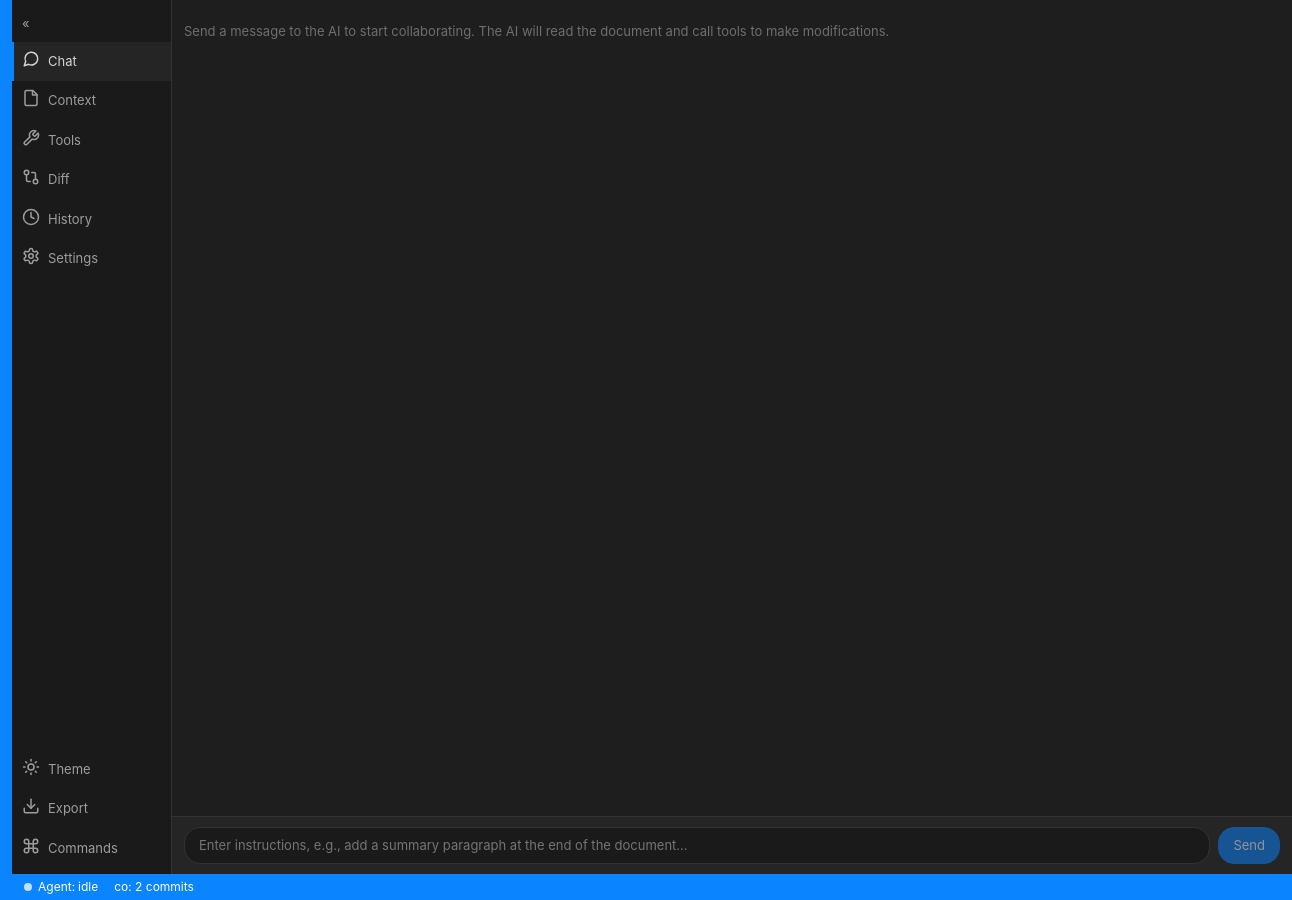
Test: Agent Deck › hides the confirm prompt once a pending change is accepted
Type "Modify the first paragraph" into the field named "Message Input" at (697, 845), box [184,826,1210,864]
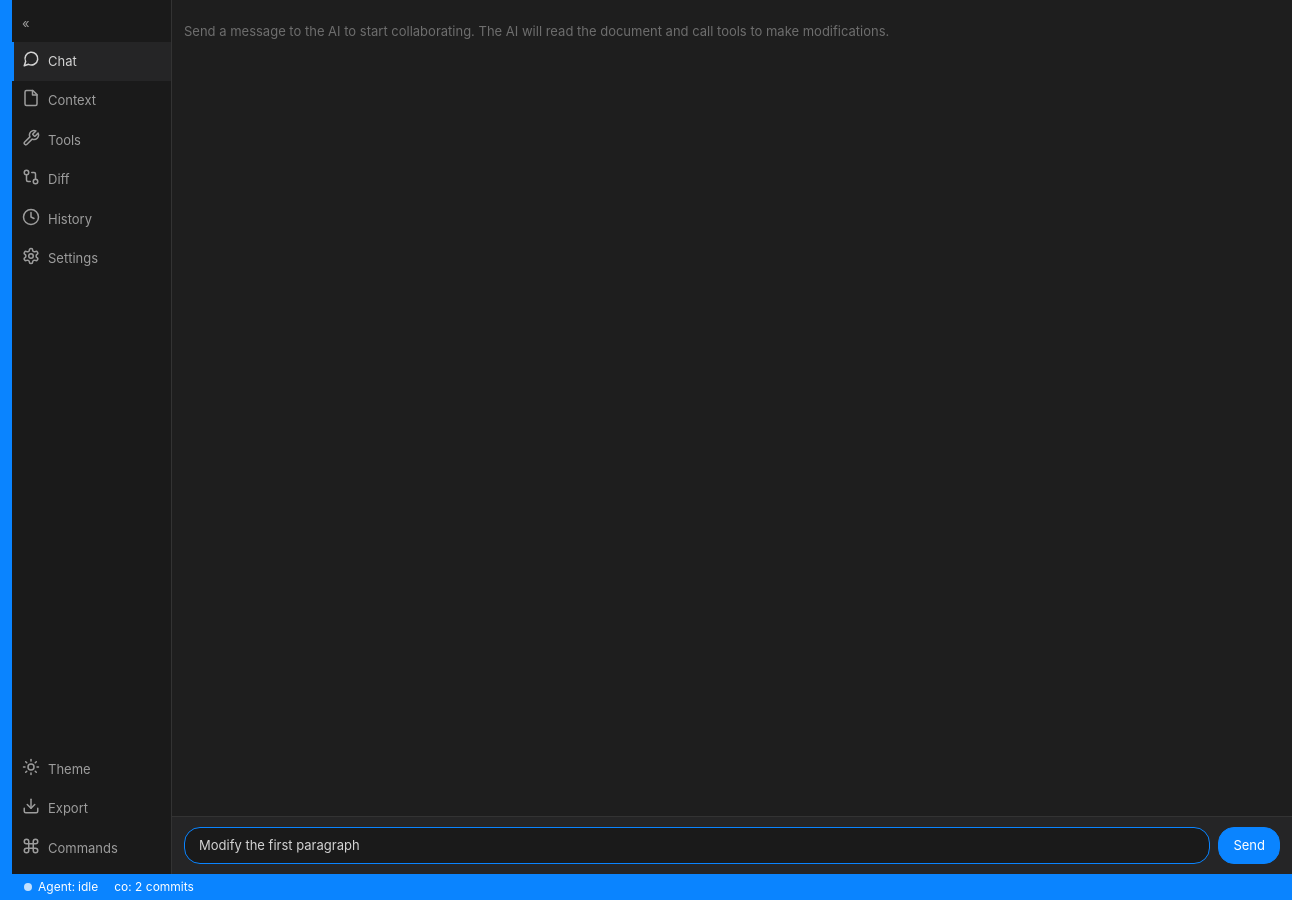
Click the button "Send" at (1249, 845), box [1218,826,1280,864]
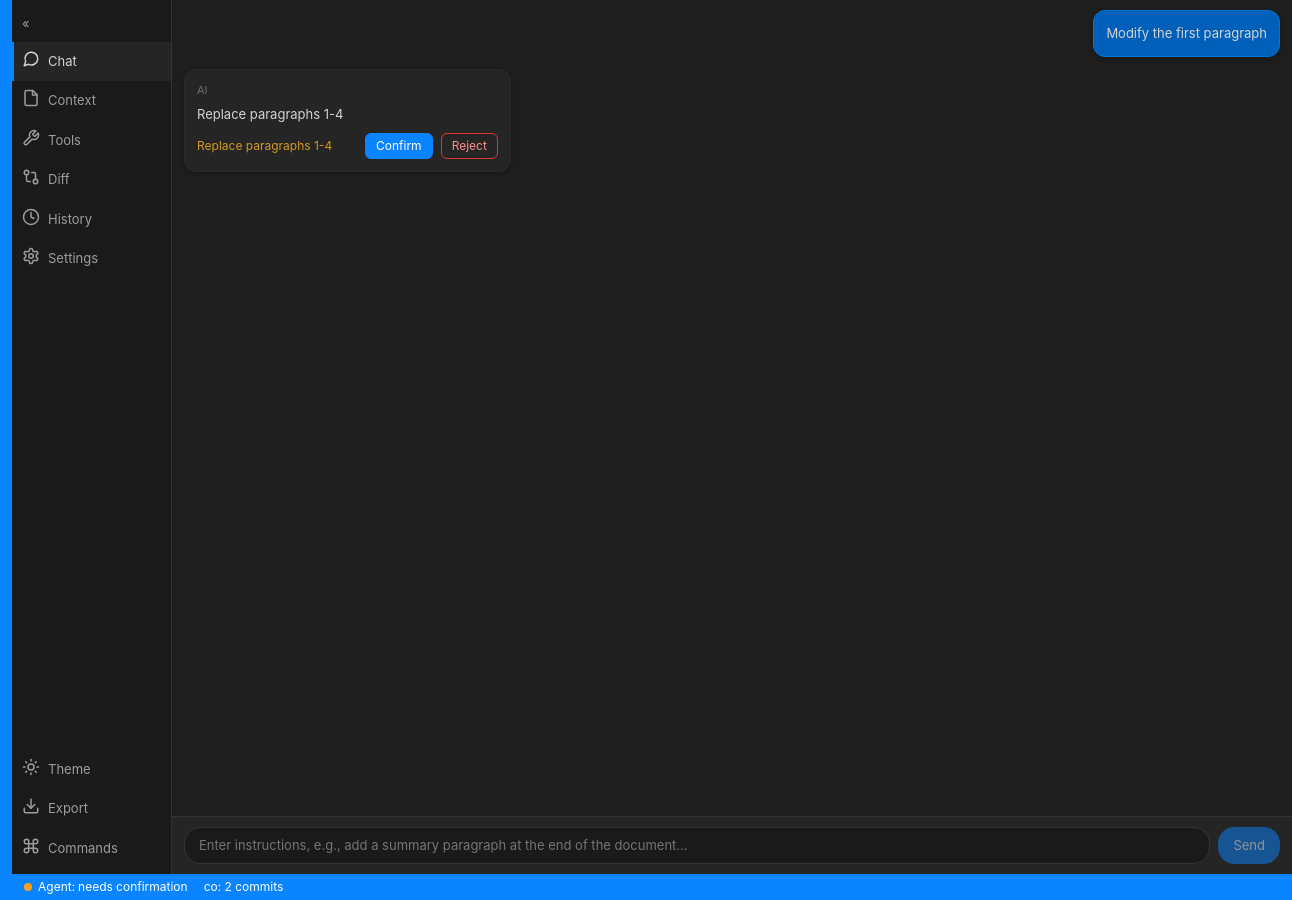
Expected: the element with test id "confirm-row" is shown, [197,133,498,159]
Click the button with test id "btn-confirm" at (399, 146), box [365,133,433,159]
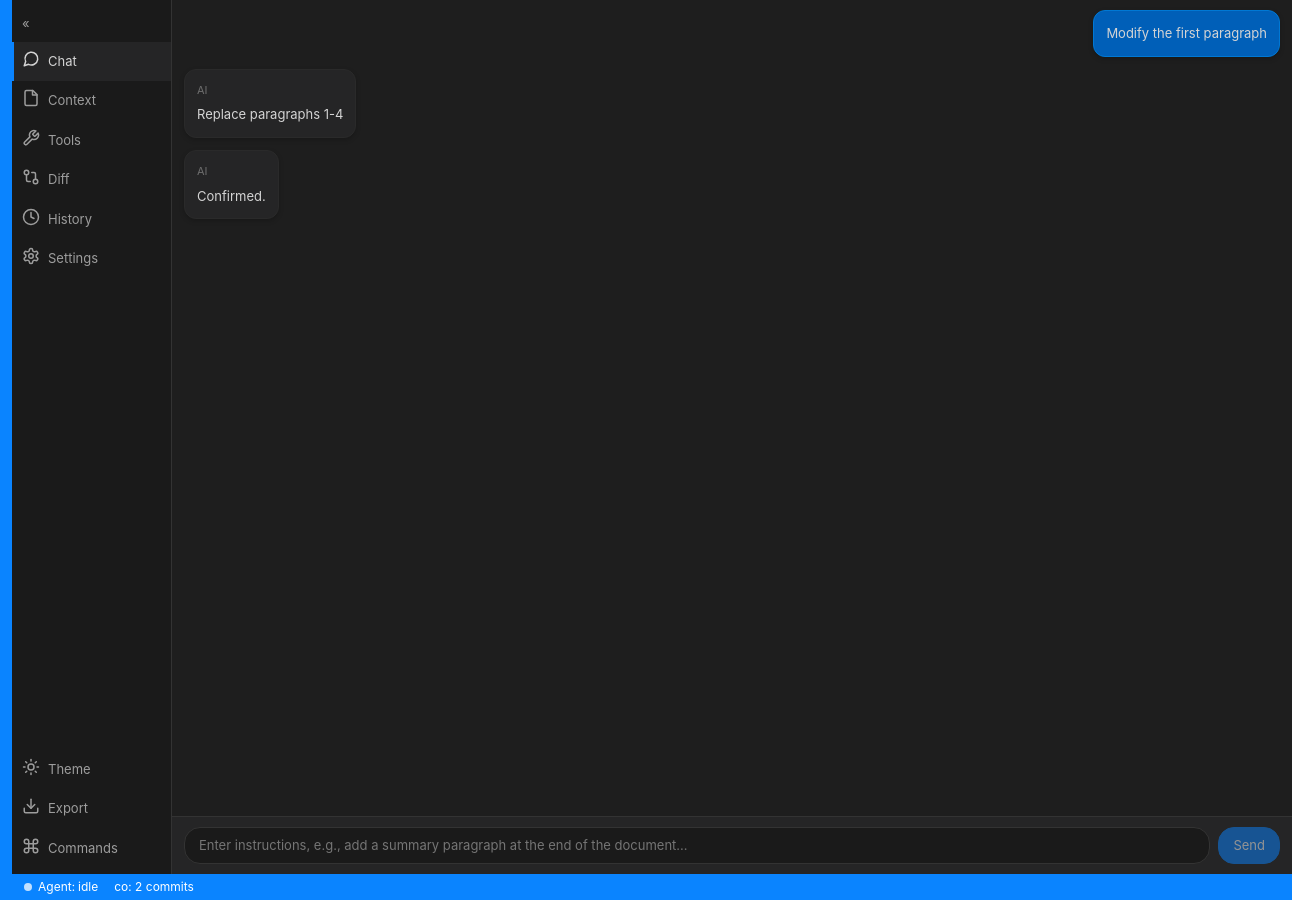
Expected: the element with test id "confirm-row" is gone
